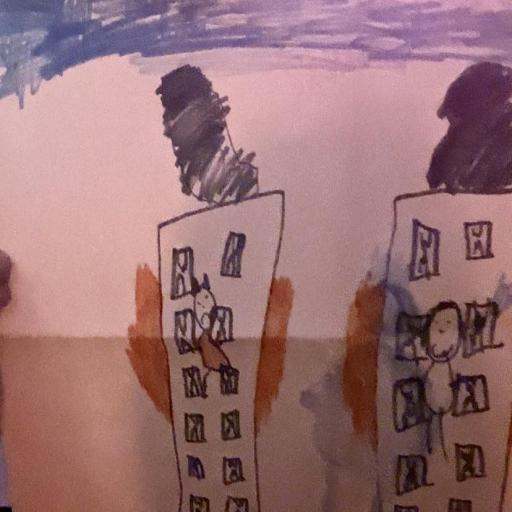person: (425, 301, 463, 458), (192, 275, 230, 374)
